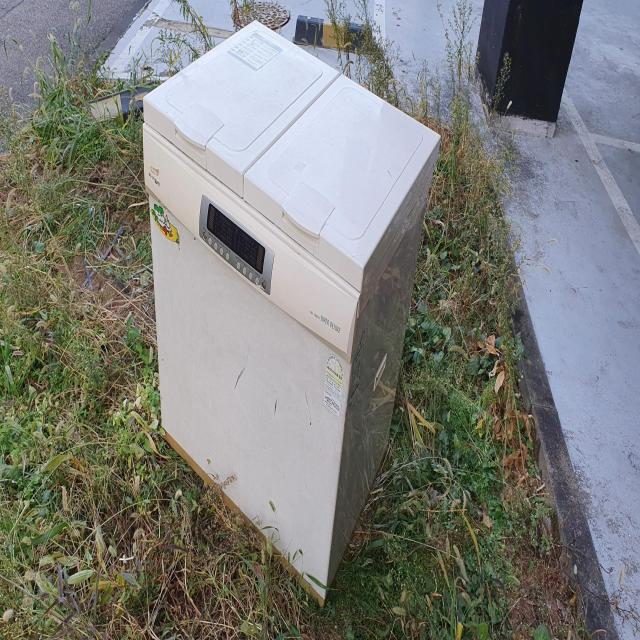refrigerator: (141, 19, 443, 605)
